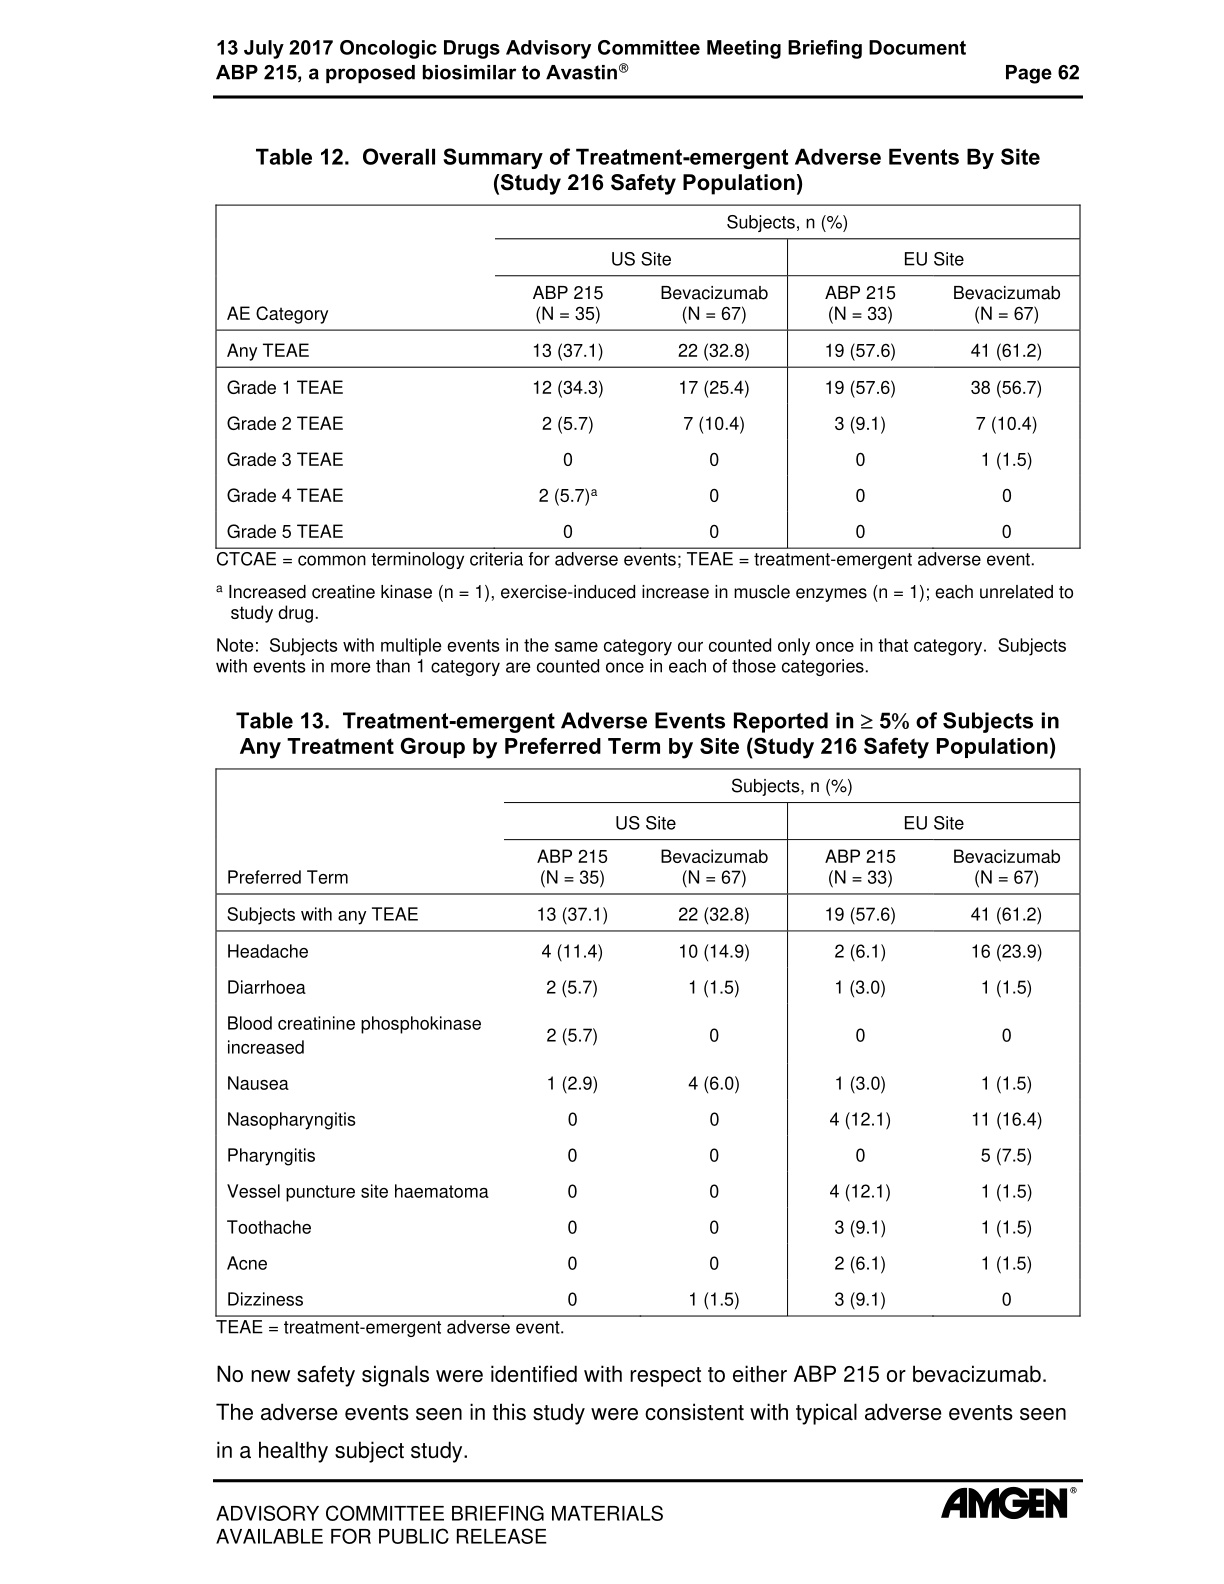partial_lined_merged_cells: (213, 766, 1083, 1320), (213, 203, 1083, 552)
